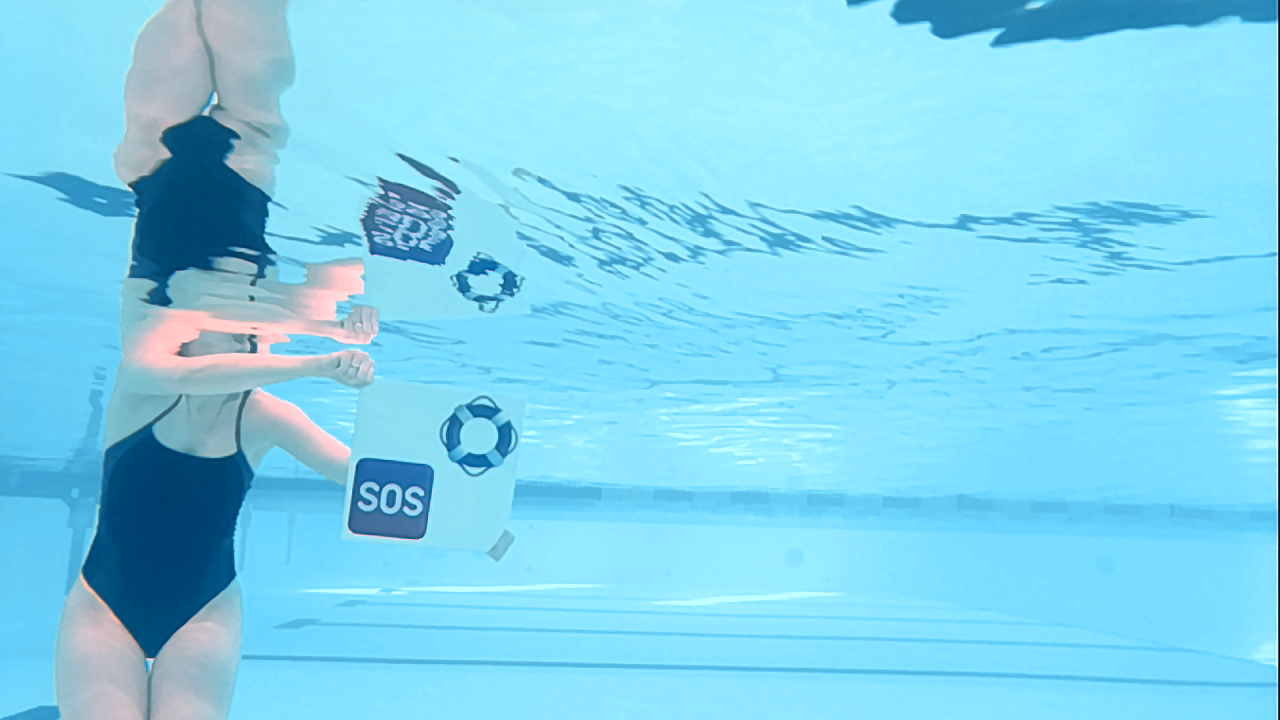sos_safety: (343, 388, 519, 541)
